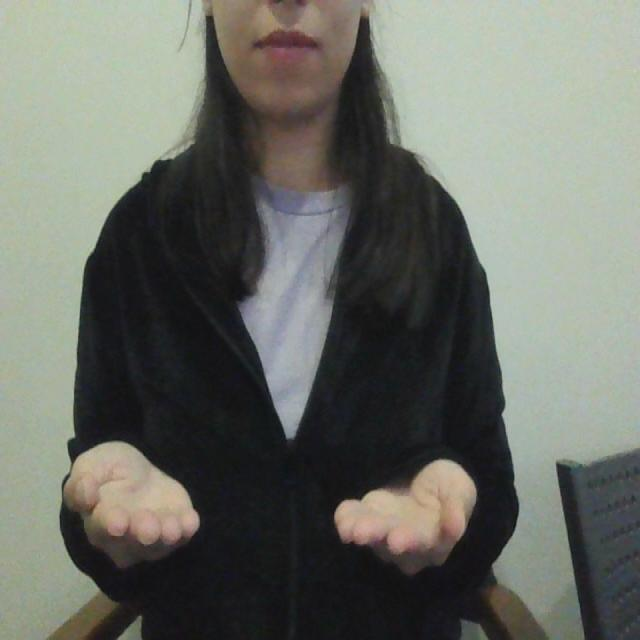Evet: (60, 437, 481, 577)
